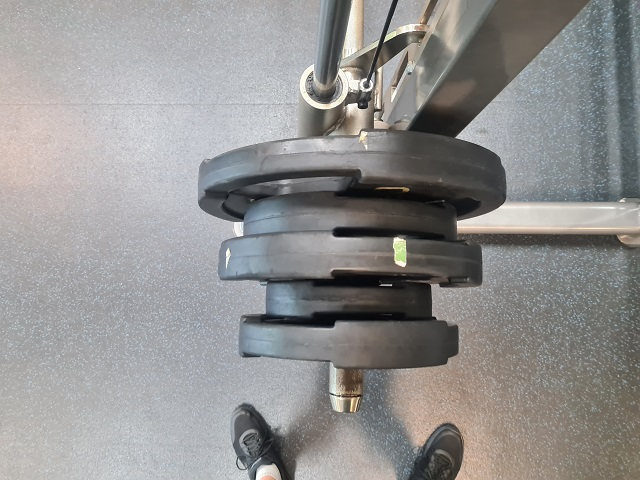weights: (197, 128, 505, 221), (217, 230, 483, 288), (238, 314, 459, 369), (243, 191, 459, 238), (264, 280, 432, 319)
